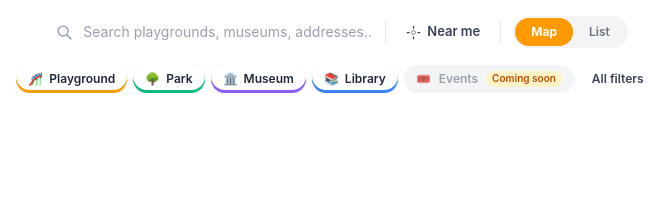
Test: SearchField combobox keyboard navigation (#482) › Enter selects the active geocode result
In the dropdown with placeholder "Search playgrounds, museums, addresses…": (228, 32) [83, 22, 373, 42], type "first"
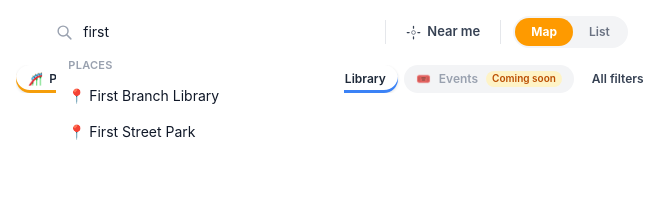
Press Enter in the dropdown with placeholder "Search playgrounds, museums, addresses…", box [83, 22, 373, 42]
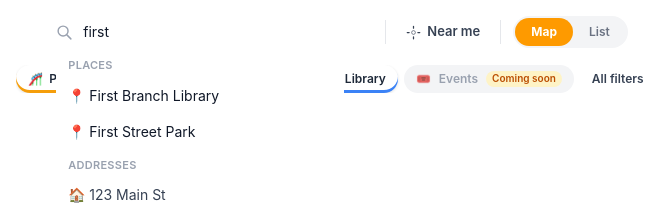
Press ArrowDown in the dropdown with placeholder "Search playgrounds, museums, addresses…", box [83, 22, 373, 42]
Press ArrowDown in the dropdown with placeholder "Search playgrounds, museums, addresses…", box [83, 22, 373, 42]
Press ArrowDown in the dropdown with placeholder "Search playgrounds, museums, addresses…", box [83, 22, 373, 42]
Press Enter in the dropdown with placeholder "Search playgrounds, museums, addresses…", box [83, 22, 373, 42]
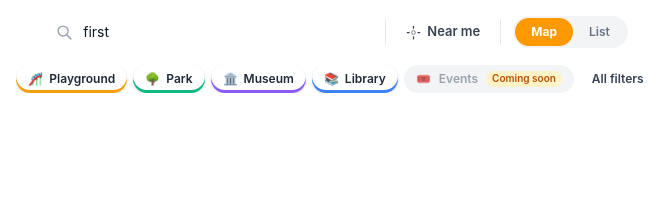
Now the list is gone
